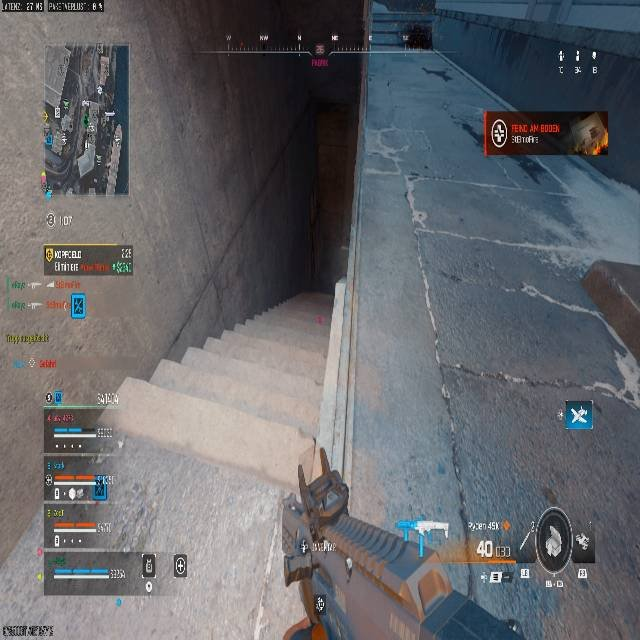head: (566, 112, 612, 156)
